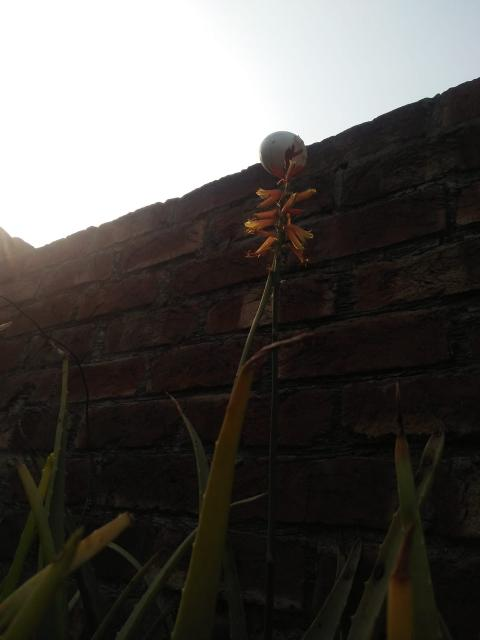Roto: (259, 130, 310, 181)
